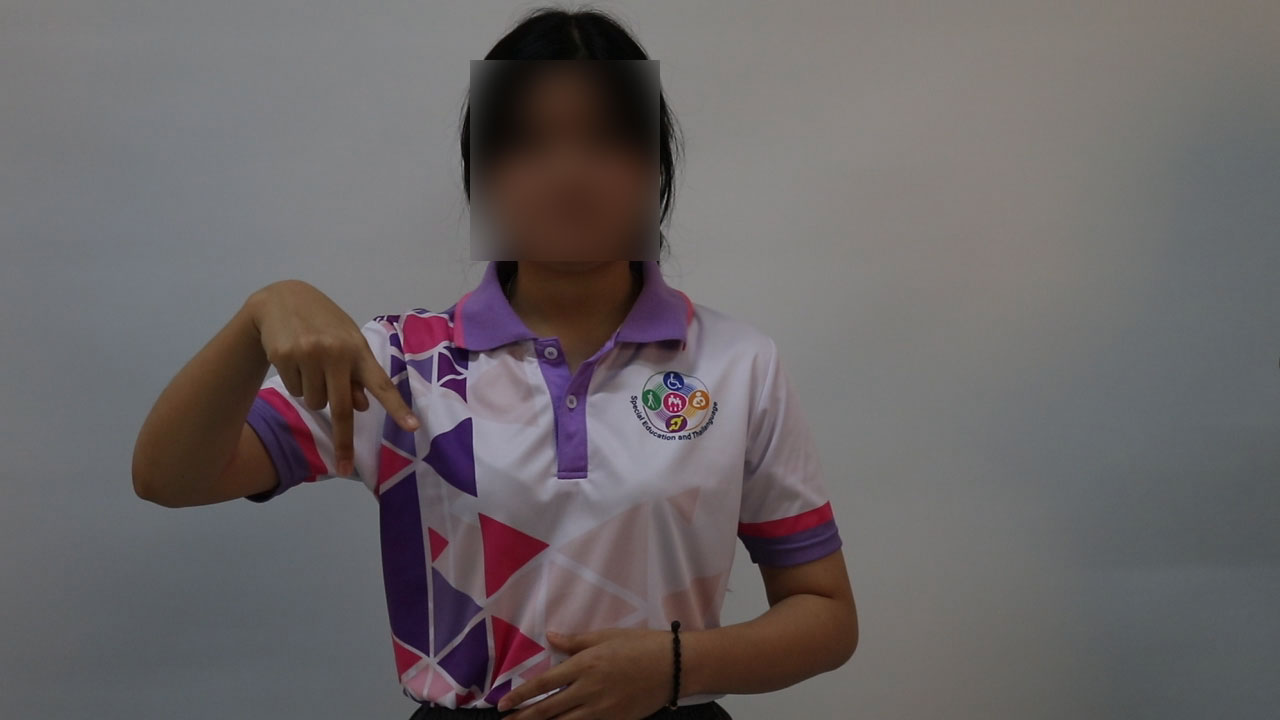por: (236, 254, 433, 485)
